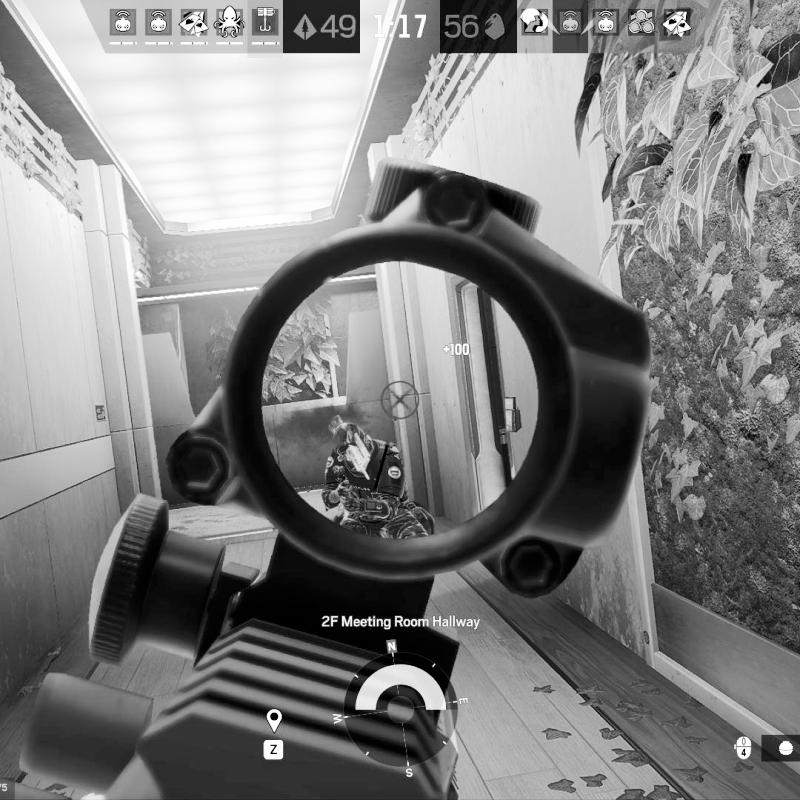Character: (322, 413, 436, 544)
Head: (332, 420, 375, 472)
